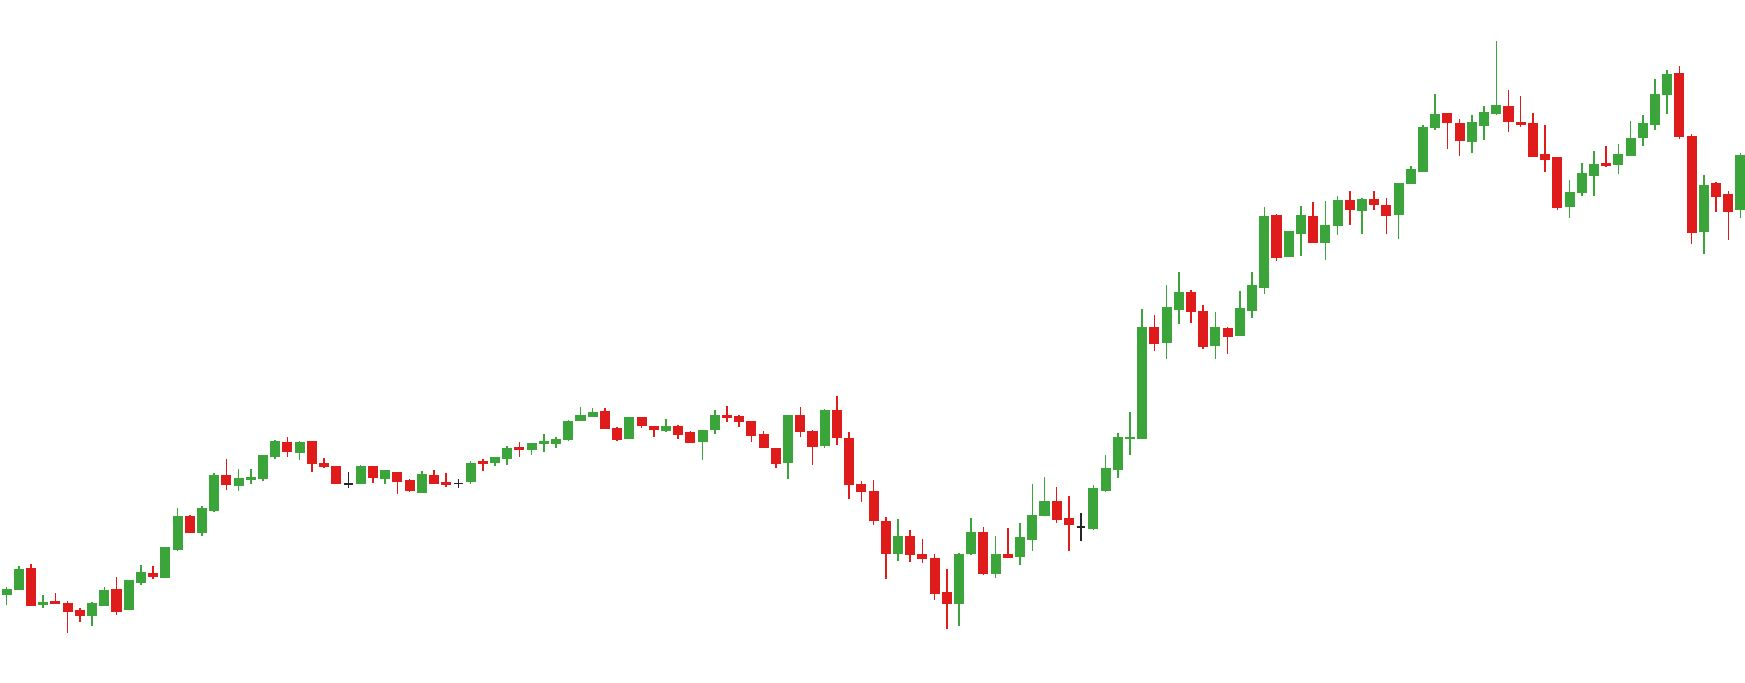sell: (1429, 42, 1517, 142)
